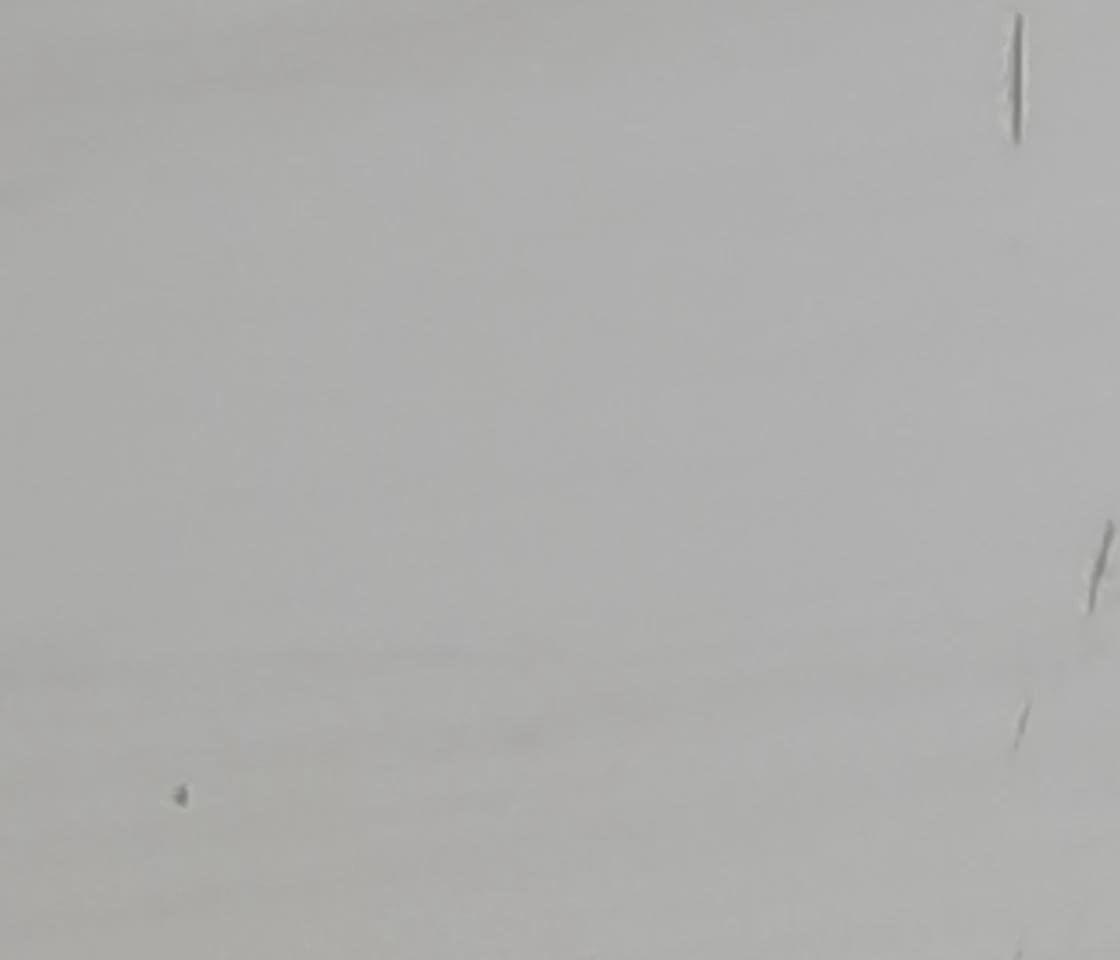scratch: (1003, 6, 1035, 150), (1088, 518, 1117, 625)
